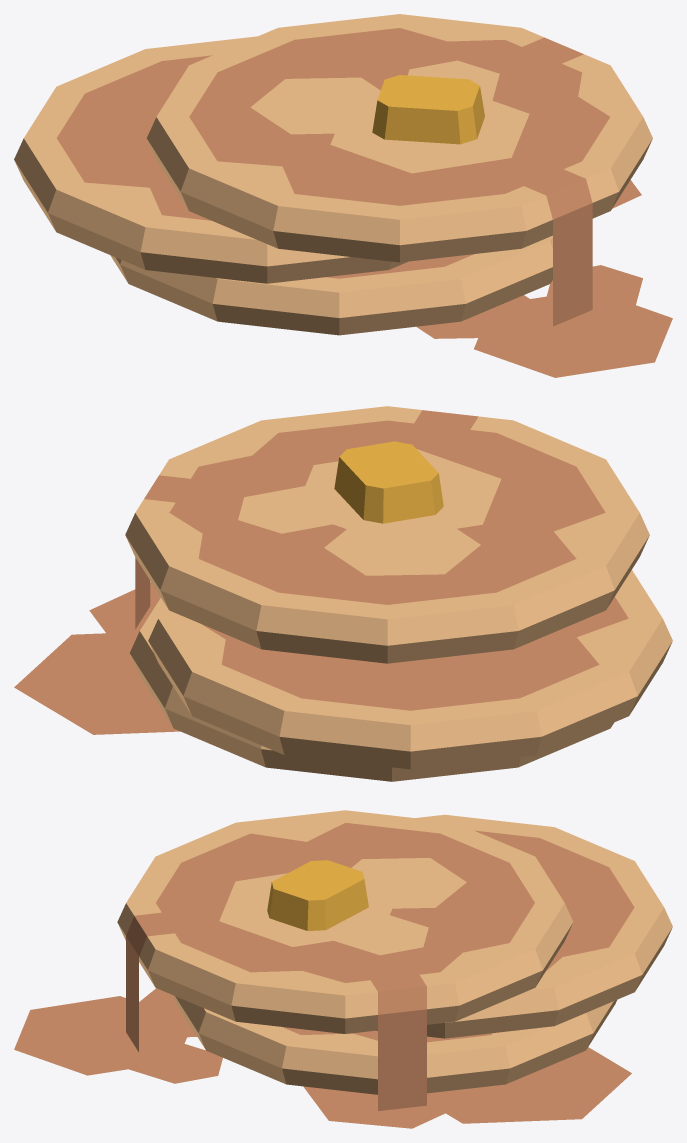
The model's file is pancakes.fbx.
3 renders of one model, top to bottom at view 1: azimuth 30°, elevation 25°; view 2: azimuth 150°, elevation 25°; view 3: azimuth 270°, elevation 25°, orthographic. The views are drawn at different scales.
Parts seen in each view (by area): view 1: pancake (×3), pancakes, butter; view 2: pancake (×3), pancakes, butter; view 3: pancake (×3), pancakes, butter.
Boxes of the visible parts, left/top/right/bottom form: pancake (×3): left=14, top=14, right=652, bottom=335; pancakes: left=416, top=180, right=672, bottom=377; butter: left=372, top=75, right=484, bottom=144; pancake (×3): left=125, top=406, right=672, bottom=781; pancakes: left=14, top=582, right=180, bottom=734; butter: left=334, top=441, right=443, bottom=523; pancake (×3): left=117, top=810, right=672, bottom=1110; pancakes: left=14, top=988, right=631, bottom=1128; butter: left=267, top=860, right=368, bottom=930.
Size of the model in its own units: 4.36 by 1.22 by 5.04.
